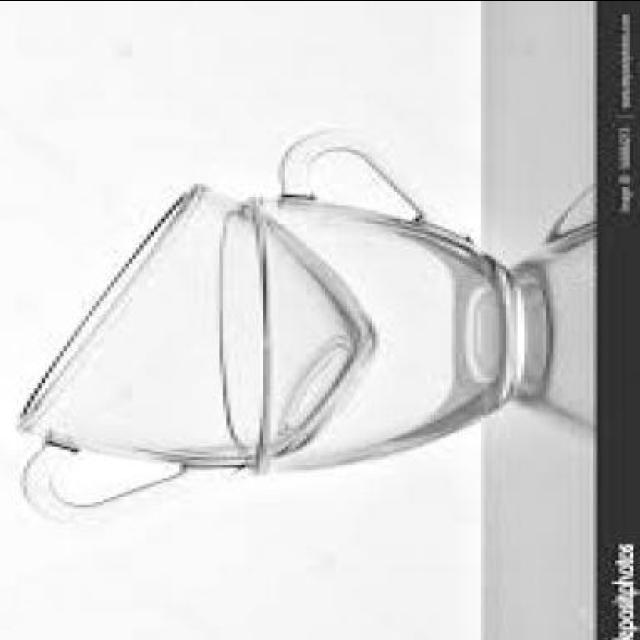kaca: (10, 188, 377, 522), (216, 132, 546, 474)
